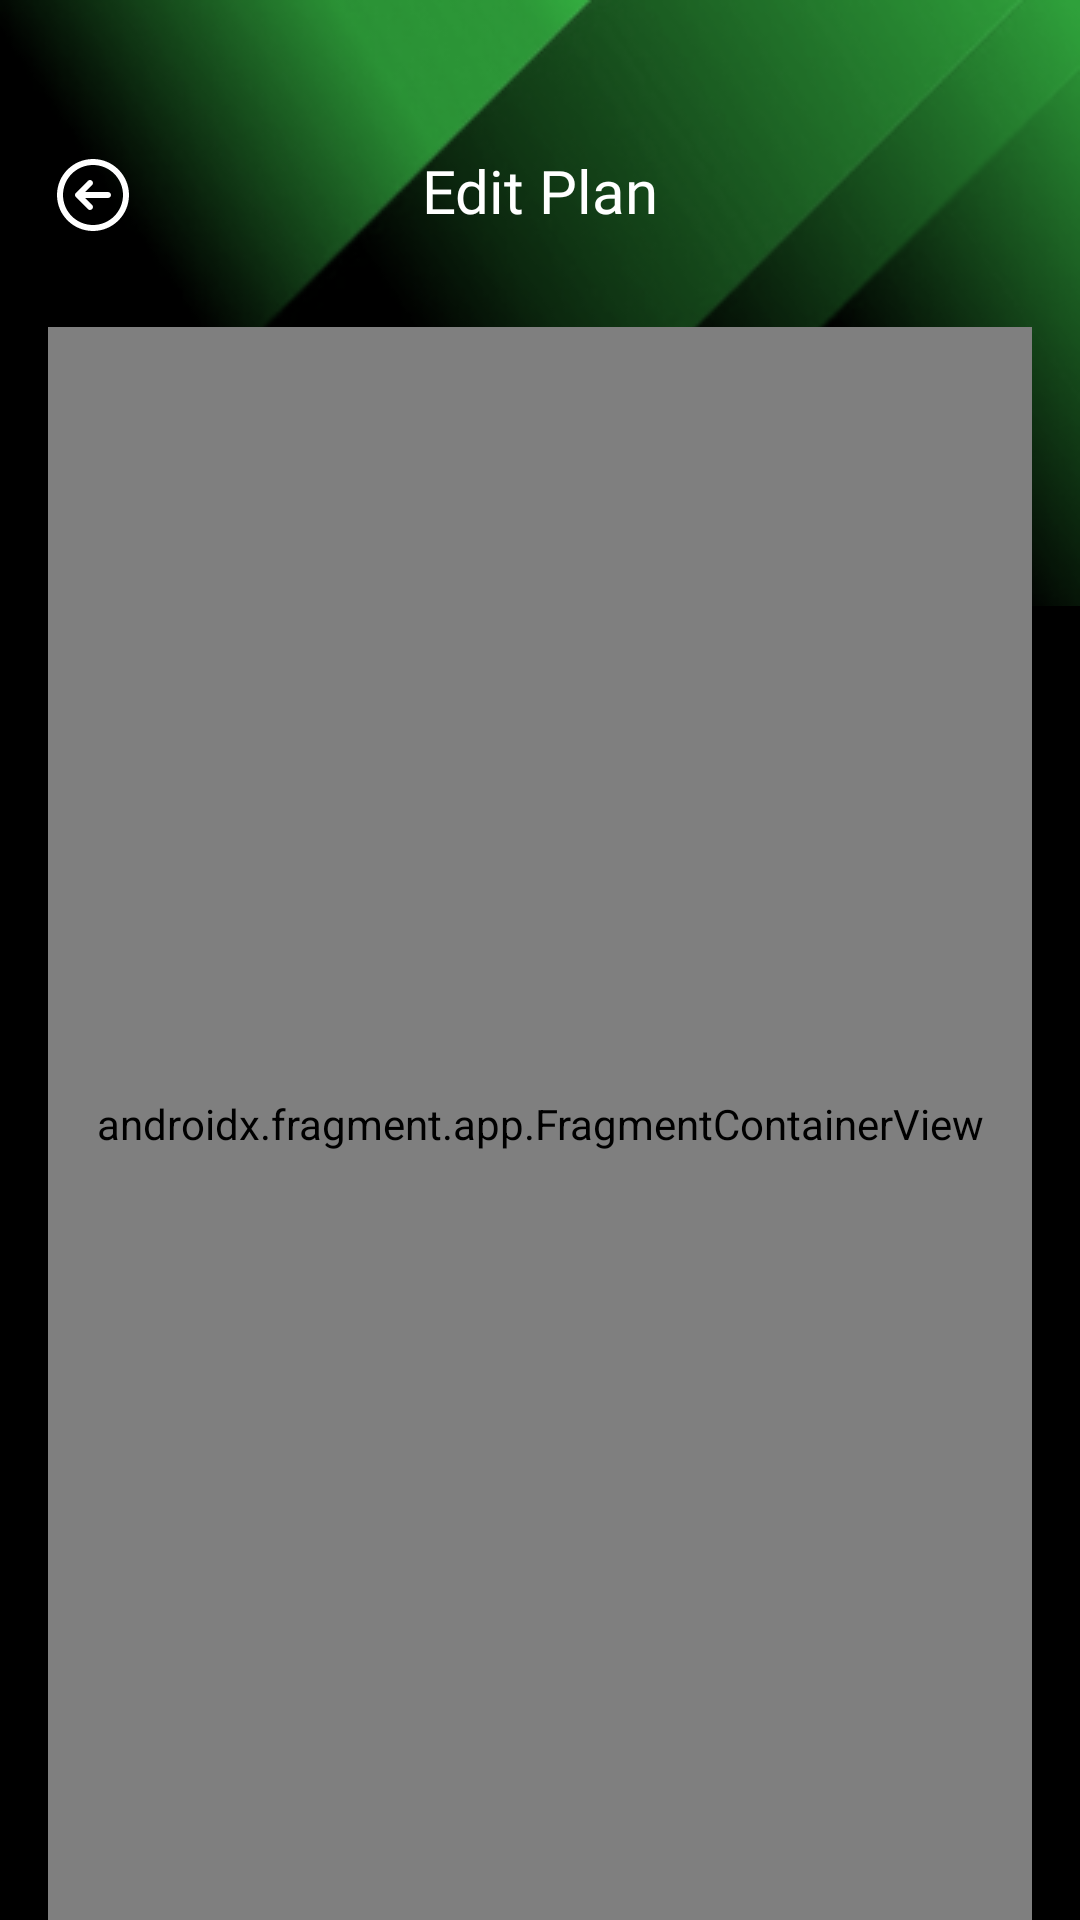

Icon bounding boxes for this 1080px×1920px phone screenshot, format bbox=(x1, y1, x2, y2):
backicon: bbox=(57, 159, 129, 231)
